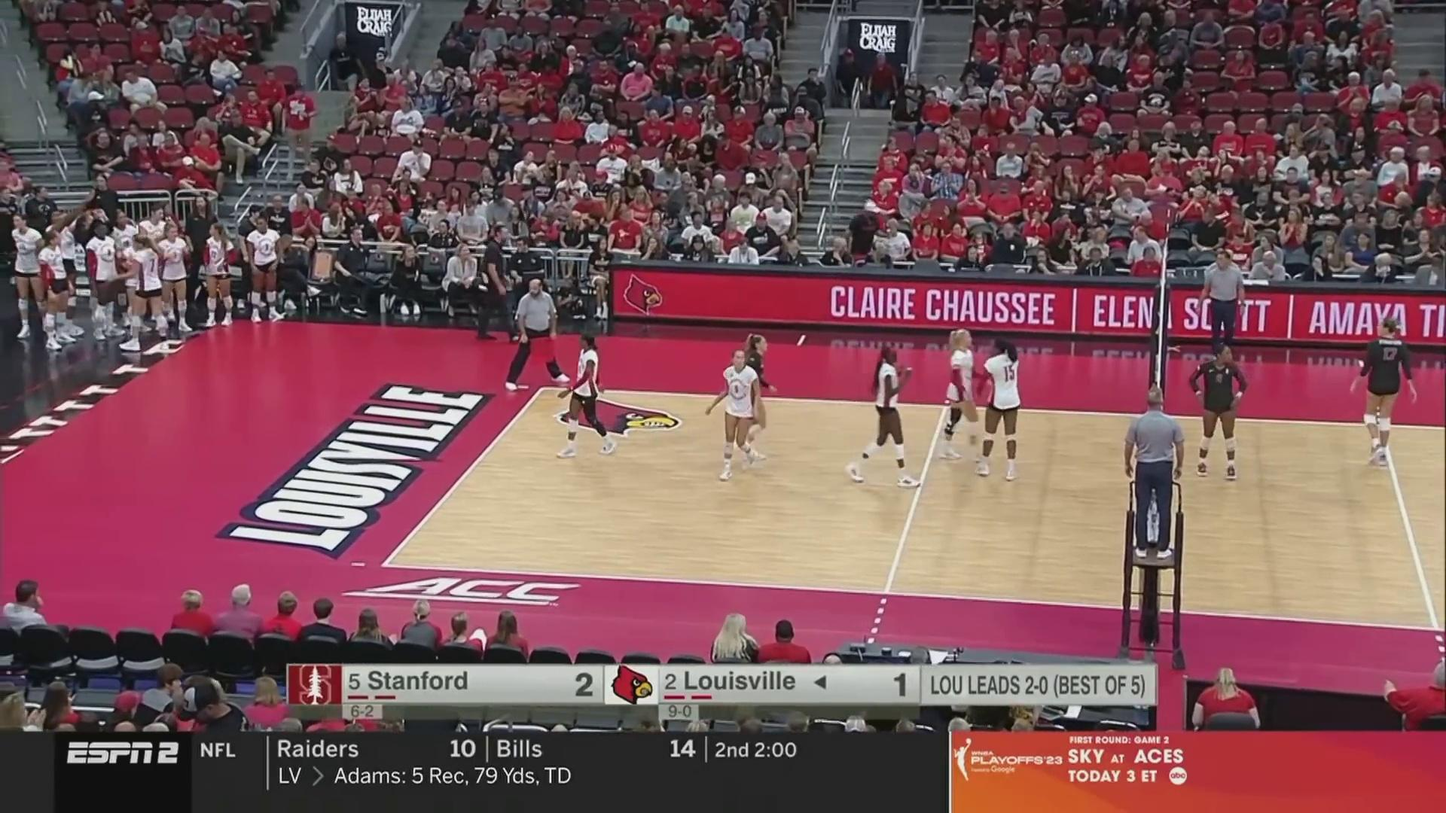player: (847, 349, 918, 487), (1354, 318, 1418, 465), (1191, 342, 1247, 480), (976, 337, 1027, 481), (557, 335, 616, 459), (708, 350, 755, 481), (940, 328, 985, 462), (733, 335, 776, 463)
refree: (1124, 391, 1182, 558), (505, 278, 569, 387), (1200, 252, 1246, 370)
